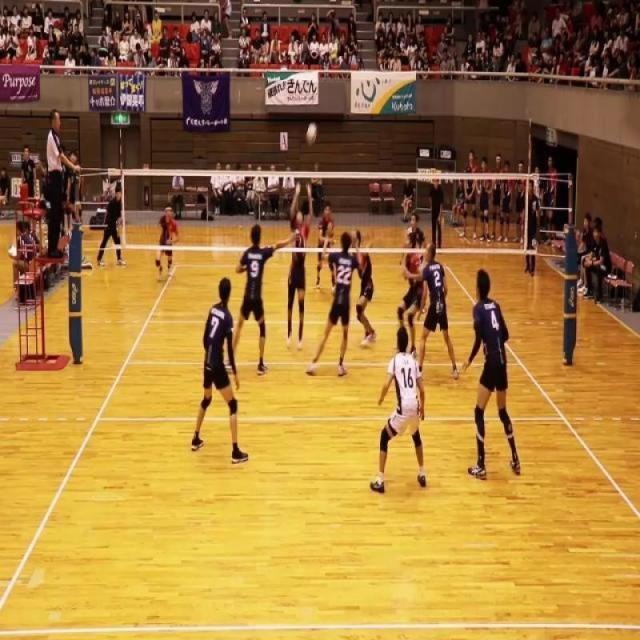volleyball: (306, 120, 318, 148)
